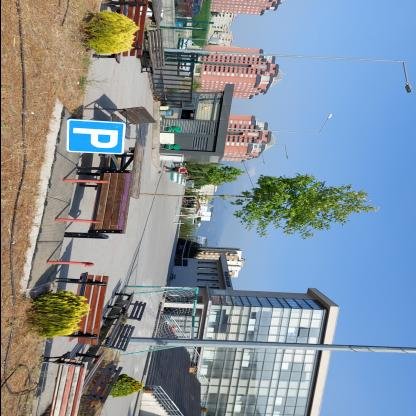Parking-Sign: (66, 120, 126, 156)
